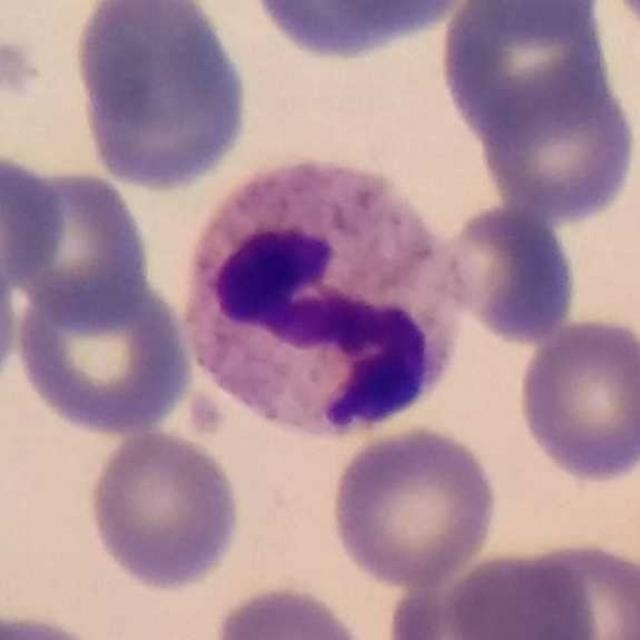Neutrophil: (185, 164, 467, 432)
